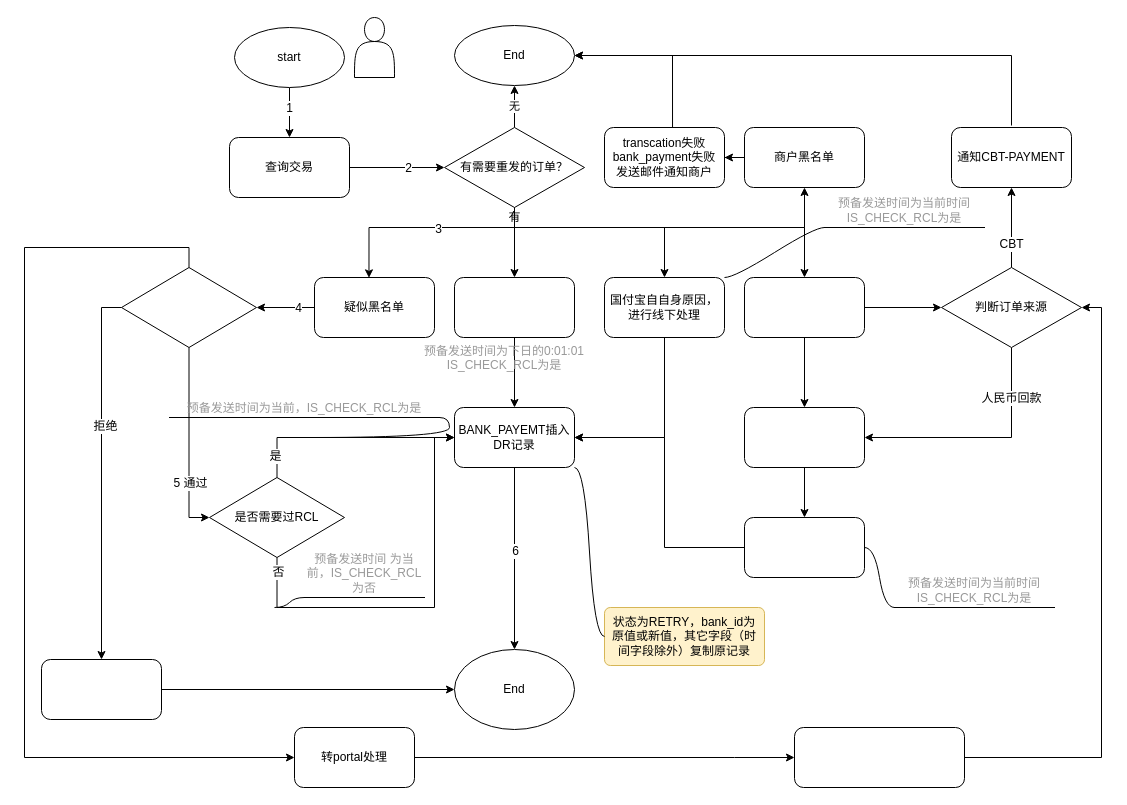
This 1127x805 diagram has some shape labels left out. Each missing label, with the centre of its shape:
"修改transcation交易状态为失败，修改bank_payment返回码字段为银行黑名单错误码" belongs at [879,757].
"修改transcation交易状态为进行中" belongs at [804,547].
"当日超限" belongs at [514,307].
"控制台审核" belongs at [188,307].
"用户在portal更新银行卡信息" belongs at [804,437].
"订单结束，置为失败" belongs at [101,689].
"银行卡信息错误或银行卡黑名单" belongs at [804,307].
